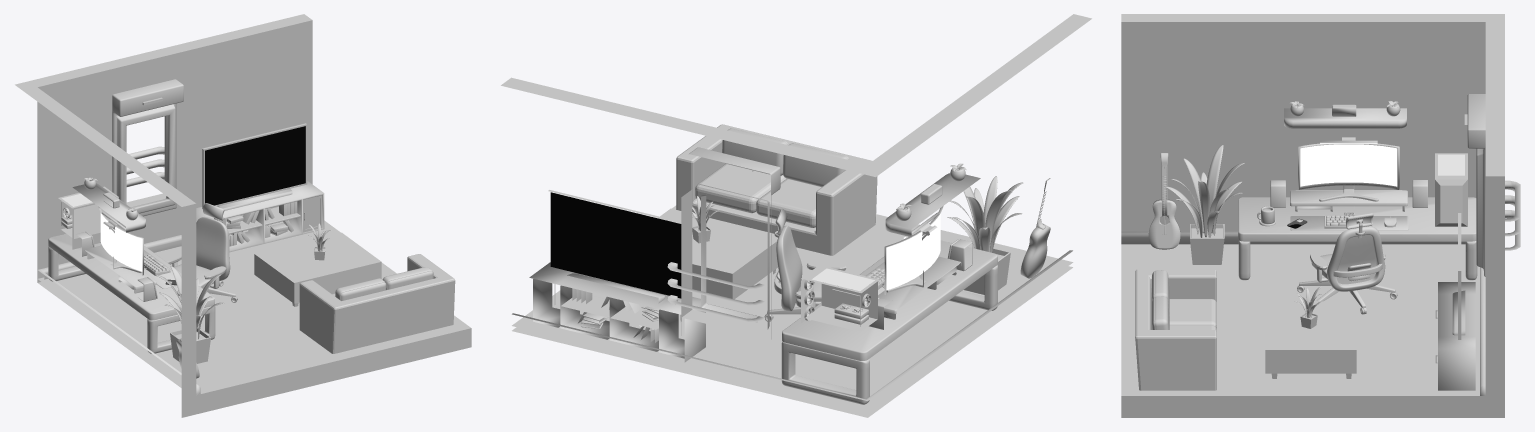
The model's file is room-v2.glb.
3 renders of one model, left to right at view 1: azimuth 30°, elevation 25°; view 2: azimuth 150°, elevation 25°; view 3: azimuth 270°, elevation 25°, orthographic. The views are drawn at different scales.
Parts seen in each view (by area): view 1: MergedRoom, tvScreen, Chair, monitorScreen, caseCover; view 2: MergedRoom, tvScreen, Chair, monitorScreen, caseCover; view 3: MergedRoom, Chair, monitorScreen, caseCover.
Part boxes in pixels (bbox=[...]): MergedRoom: bbox=[15, 14, 471, 417]; tvScreen: bbox=[205, 126, 305, 205]; Chair: bbox=[164, 203, 230, 288]; monitorScreen: bbox=[100, 213, 142, 271]; caseCover: bbox=[62, 193, 117, 238]; MergedRoom: bbox=[501, 14, 1091, 417]; tvScreen: bbox=[550, 192, 681, 298]; Chair: bbox=[774, 208, 846, 311]; monitorScreen: bbox=[886, 214, 940, 290]; caseCover: bbox=[801, 268, 877, 323]; MergedRoom: bbox=[1121, 14, 1520, 417]; Chair: bbox=[1310, 213, 1385, 291]; monitorScreen: bbox=[1300, 144, 1397, 186]; caseCover: bbox=[1438, 154, 1464, 223].
Bounding box in the file's own units: 17.61 × 12.24 × 18.33.
5 materials, 1 textured.
